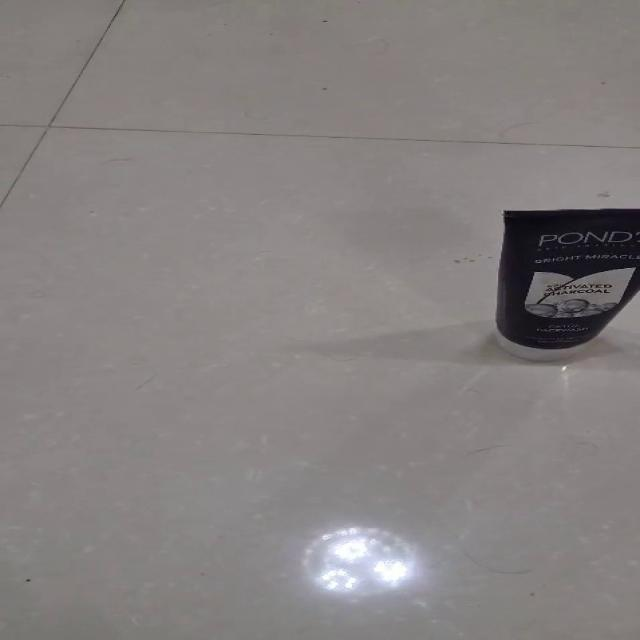plastic: (492, 207, 638, 358)
